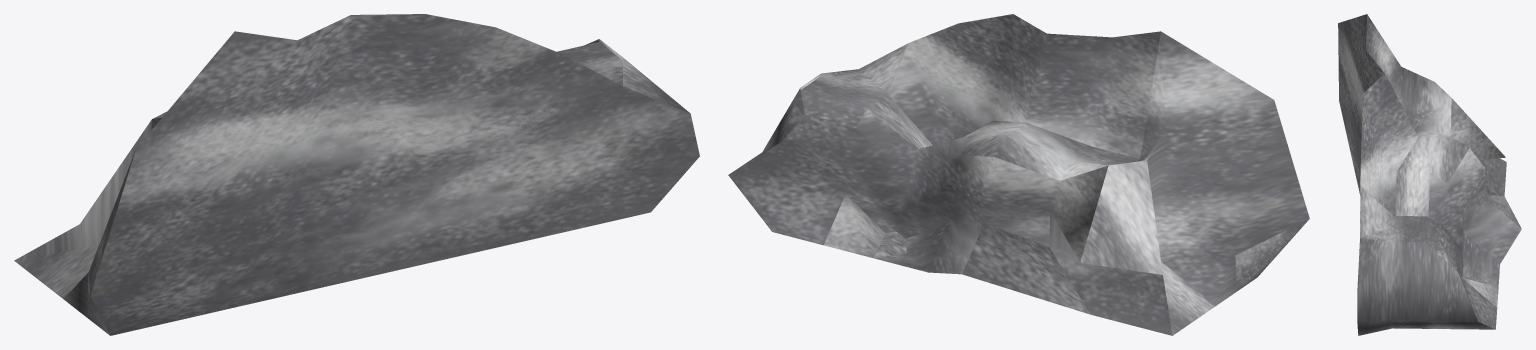
The model's file is Mountain20 - Level 1.FBX.
The picture shows the model from 3 angles, left to right: view 1: azimuth 30°, elevation 25°; view 2: azimuth 150°, elevation 25°; view 3: azimuth 270°, elevation 25°; orthographic projection. The views are drawn at different scales.
Visible parts, largest first — view 1: Mountain 20; view 2: Mountain 20; view 3: Mountain 20.
Boxes of the visible parts, bbox=[...] form: Mountain 20: bbox=[14, 14, 699, 335]; Mountain 20: bbox=[728, 14, 1309, 335]; Mountain 20: bbox=[1338, 14, 1521, 335].
Bounding box in the file's own units: 316 × 134 × 119.
Materials: 1 (1 with a texture image).
